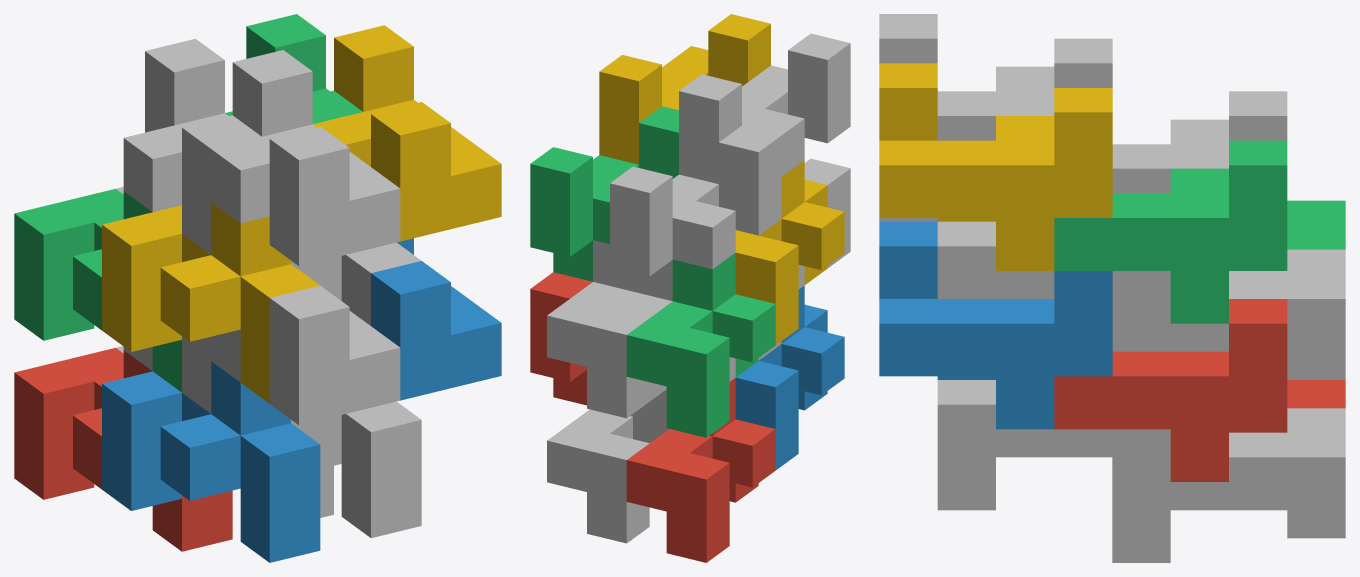
Rendered from tiling.obj.
3 renders of one model, left to right at view 1: azimuth 30°, elevation 25°; view 2: azimuth 150°, elevation 25°; view 3: azimuth 270°, elevation 25°, orthographic. The views are drawn at different scales.
Parts seen in each view (by area): view 1: copy_1_domain_2, copy_2_domain_4, copy_1_domain_4, copy_2_domain_8, copy_1_domain_1, copy_2_domain_3, copy_2_domain_2, copy_1_domain_3, copy_2_domain_6, copy_1_domain_6, copy_2_domain_7, copy_1_domain_8 (+2 smaller); view 2: copy_2_domain_3, copy_1_domain_3, copy_2_domain_4, copy_1_domain_1, copy_2_domain_7, copy_2_domain_8, copy_1_domain_4, copy_1_domain_7, copy_1_domain_2, copy_1_domain_5, copy_2_domain_5, copy_2_domain_2 (+1 smaller); view 3: copy_2_domain_8, copy_2_domain_6, copy_2_domain_7, copy_2_domain_5, copy_1_domain_5, copy_1_domain_7, copy_1_domain_6, copy_2_domain_4, copy_2_domain_3, copy_1_domain_8, copy_1_domain_3, copy_1_domain_1.
Part boxes in pixels (left/top/right/bottom): copy_1_domain_2: left=102, top=361, right=320, bottom=562; copy_2_domain_4: left=211, top=50, right=400, bottom=266; copy_1_domain_4: left=102, top=202, right=319, bottom=403; copy_2_domain_8: left=313, top=25, right=501, bottom=241; copy_1_domain_1: left=14, top=348, right=232, bottom=551; copy_2_domain_3: left=123, top=38, right=261, bottom=254; copy_2_domain_2: left=211, top=285, right=400, bottom=425; copy_1_domain_3: left=14, top=188, right=181, bottom=392; copy_2_domain_6: left=371, top=238, right=501, bottom=400; copy_1_domain_6: left=291, top=401, right=421, bottom=538; copy_2_domain_7: left=225, top=14, right=362, bottom=123; copy_1_domain_8: left=291, top=242, right=421, bottom=325; copy_2_domain_3: left=610, top=126, right=781, bottom=301; copy_1_domain_3: left=626, top=253, right=775, bottom=437; copy_2_domain_4: left=679, top=33, right=850, bottom=183; copy_1_domain_1: left=626, top=378, right=775, bottom=562; copy_2_domain_7: left=530, top=106, right=678, bottom=281; copy_2_domain_8: left=599, top=14, right=770, bottom=164; copy_1_domain_4: left=735, top=160, right=844, bottom=344; copy_1_domain_7: left=547, top=240, right=649, bottom=418; copy_1_domain_2: left=735, top=285, right=844, bottom=470; copy_1_domain_5: left=547, top=409, right=668, bottom=543; copy_2_domain_5: left=530, top=272, right=592, bottom=405; copy_2_domain_2: left=798, top=158, right=850, bottom=289; copy_2_domain_8: left=879, top=63, right=1112, bottom=270; copy_2_domain_6: left=879, top=221, right=1112, bottom=429; copy_2_domain_7: left=1054, top=140, right=1287, bottom=323; copy_2_domain_5: left=1054, top=299, right=1287, bottom=481; copy_1_domain_5: left=1112, top=408, right=1345, bottom=562; copy_1_domain_7: left=1112, top=249, right=1345, bottom=379; copy_1_domain_6: left=937, top=380, right=1170, bottom=510; copy_2_domain_4: left=879, top=14, right=1112, bottom=140; copy_2_domain_3: left=1112, top=91, right=1287, bottom=193; copy_1_domain_8: left=937, top=221, right=1170, bottom=298; copy_1_domain_3: left=1287, top=200, right=1345, bottom=249; copy_1_domain_1: left=1229, top=380, right=1345, bottom=432.
Bounding box in the file's own units: 5 × 9 × 8.
